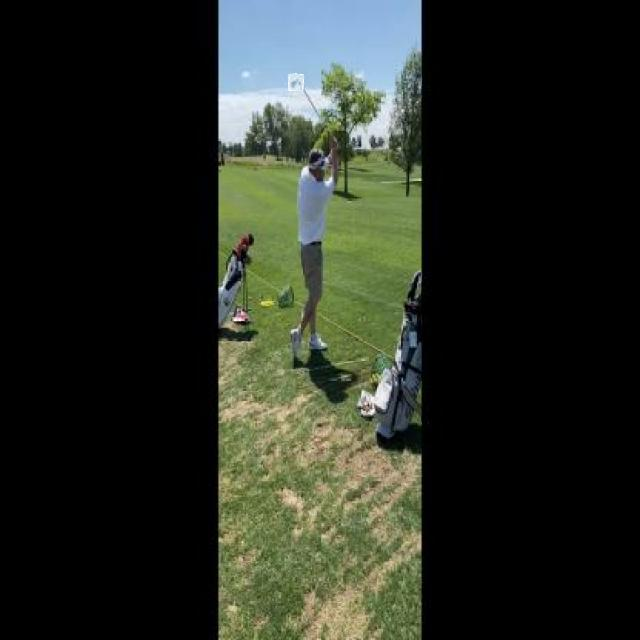club head: (288, 74, 304, 91)
